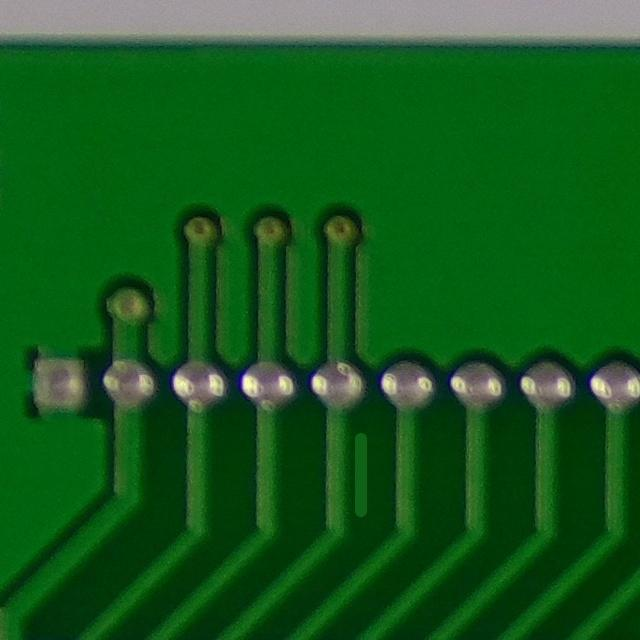spurious_copper: (339, 423, 387, 528)
